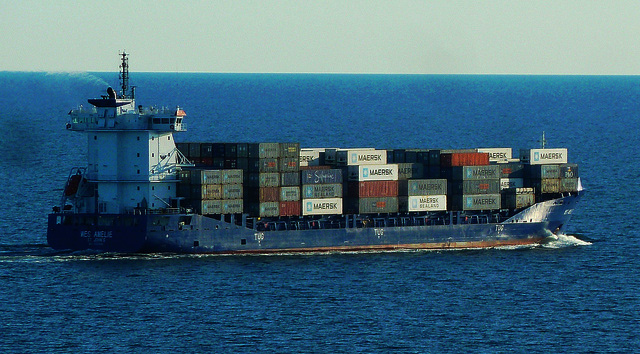container_ship: (46, 51, 593, 250)
